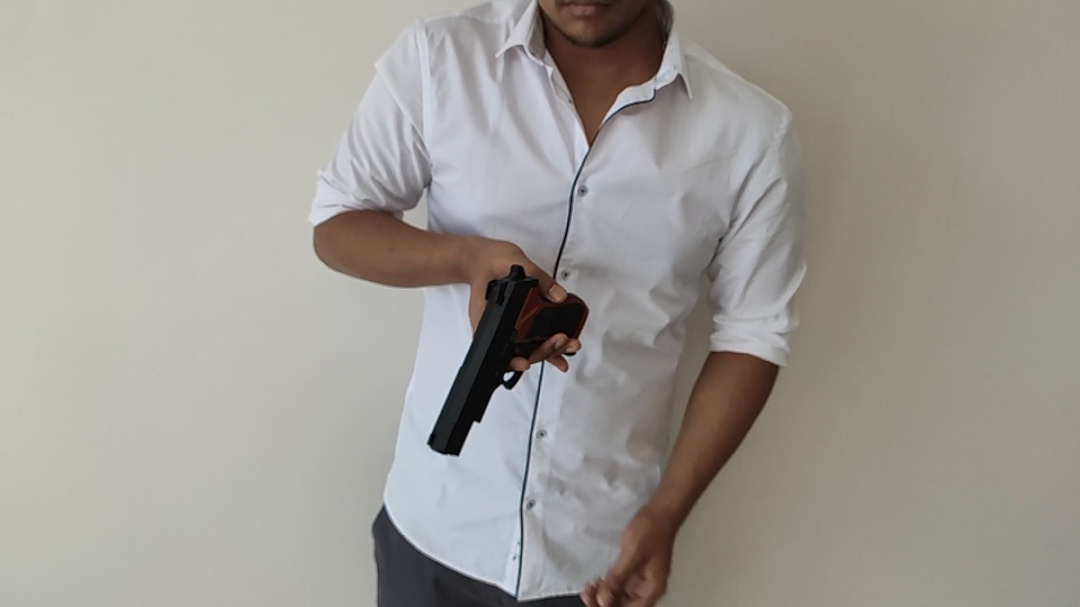gun: (425, 263, 592, 458)
